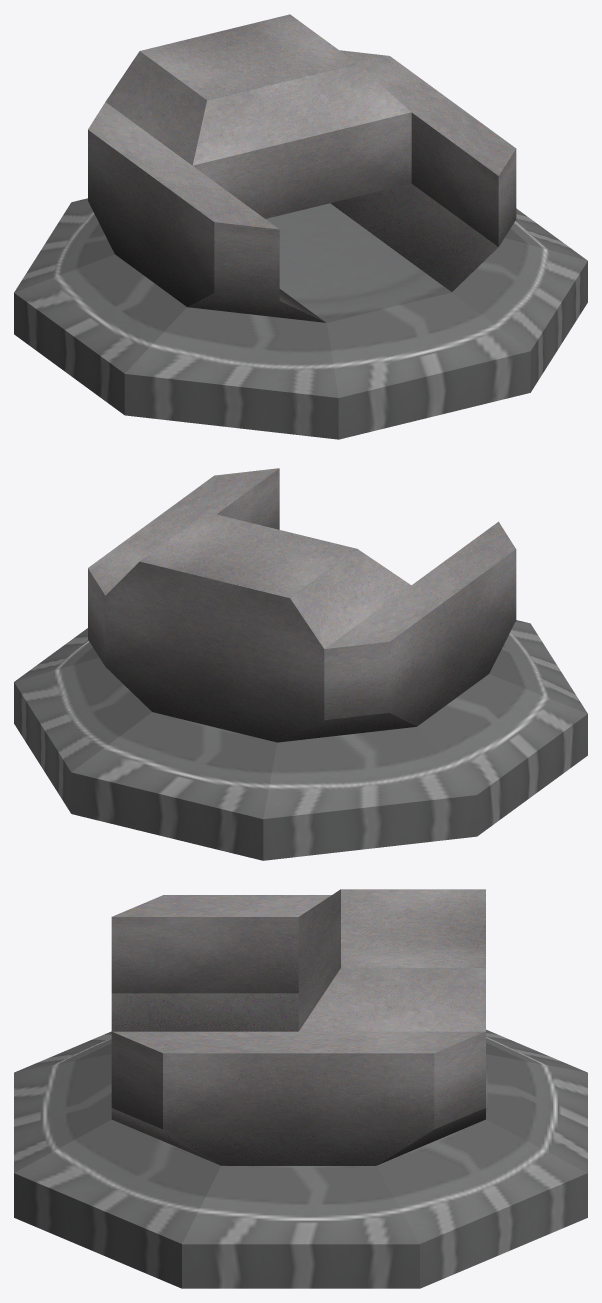
File: GraserTurretBase.fbx
3 views of the same model, one above another, from view 1: azimuth 30°, elevation 25°; view 2: azimuth 150°, elevation 25°; view 3: azimuth 270°, elevation 25° (orthographic). The views are drawn at different scales.
Parts seen in each view (by area): view 1: GraserTurretBase; view 2: GraserTurretBase; view 3: GraserTurretBase.
Part boxes in pixels (box(x1,y1,x2,y2)): GraserTurretBase: box(14, 14, 587, 439); GraserTurretBase: box(14, 468, 587, 860); GraserTurretBase: box(14, 889, 587, 1288).
Size of the model in its own units: 101 by 49.19 by 101.
